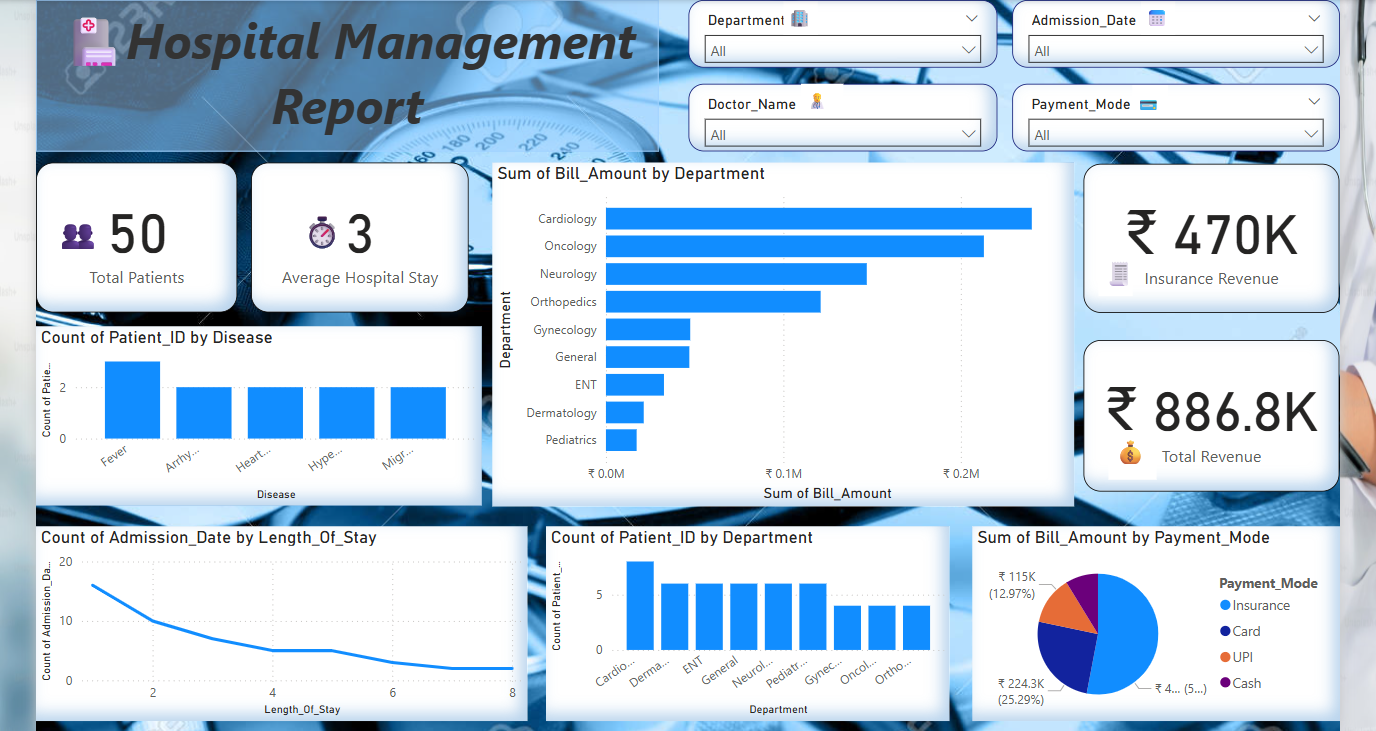

The dashboard page shown, as its layout file describes it:
{"tool":"powerbi","page":{"name":"Page 1","canvas":[1280,720],"ordinal":0},"visuals":[{"type":"textbox","box":[0,0,611.2,148.8],"z":0},{"type":"slicer","fields":{"Values":["Sheet1.Department"]},"box":[640.5,0,303.1,66.3],"z":1000},{"type":"slicer","fields":{"Values":["Sheet1.Payment_Mode"]},"box":[958.3,82.2,321.5,66.3],"z":2000},{"type":"slicer","fields":{"Values":["Sheet1.Admission_Date"]},"box":[958.3,0,321.5,66.3],"z":3000},{"type":"slicer","fields":{"Values":["Sheet1.Doctor_Name"]},"box":[640.5,82.2,303.1,66.3],"z":4000},{"type":"card","fields":{"Values":["Sheet1.TotalPatients"]},"box":[0,160,197.5,147.5],"z":5000},{"type":"card","fields":{"Values":["Sheet1.AvgStay"]},"box":[211.2,160,213.8,147.5],"z":6000},{"type":"card","fields":{"Values":["Sheet1.TotalRevenue"]},"box":[1028.8,333.8,251.2,148.8],"z":7000},{"type":"card","fields":{"Values":["Sheet1.InsuranceRevenue"]},"box":[1028.8,161.2,251.2,146.2],"z":8000},{"type":"columnChart","fields":{"Category":["Sheet1.Department"],"Y":["Sheet1.Patient_ID"]},"box":[500.6,516.6,396.3,191.4],"z":9000},{"type":"clusteredBarChart","fields":{"Category":["Sheet1.Department"],"Y":["Sheet1.Bill_Amount"]},"box":[447.5,160,571.2,337.5],"z":10000},{"type":"pieChart","fields":{"Category":["Sheet1.Payment_Mode"],"Y":["Sheet1.Bill_Amount"]},"box":[918.8,516.2,361.2,191.2],"z":11000},{"type":"lineChart","fields":{"Y":["Sheet1.Admission_Date"],"Category":["Sheet1.Length_Of_Stay"]},"box":[0,516.2,482.5,191.2],"z":12000},{"type":"clusteredColumnChart","fields":{"Category":["Sheet1.Disease"],"Y":["Sheet1.Patient_ID"]},"box":[0,320,437.5,176.2],"z":13000},{"type":"textbox","box":[15,200,55,56.2],"z":13001},{"type":"textbox","box":[253.8,200,52.5,60],"z":13002},{"type":"textbox","box":[1042.5,246.2,33.8,43.8],"z":13003},{"type":"textbox","box":[1052.5,422.5,47.5,48.8],"z":13004},{"type":"textbox","box":[733.8,1.2,33.8,32.5],"z":13005},{"type":"textbox","box":[1085,1.2,33.8,32.5],"z":13006},{"type":"textbox","box":[751.2,82.5,41.2,32.5],"z":13007},{"type":"textbox","box":[1076.2,83.8,35,31.2],"z":13008}]}

Visuals, with their boxes in screenshot pixels (x1, y1, x2, y2):
textbox: 29:0:663:140
slicer - Sheet1.Department: 694:0:1008:54
slicer - Sheet1.Payment_Mode: 1023:71:1357:140
slicer - Sheet1.Admission_Date: 1023:0:1357:54
slicer - Sheet1.Doctor_Name: 694:71:1008:140
card - Sheet1.TotalPatients: 29:152:234:305
card - Sheet1.AvgStay: 248:152:470:305
card - Sheet1.TotalRevenue: 1097:332:1357:487
card - Sheet1.InsuranceRevenue: 1097:153:1357:305
columnChart - Sheet1.Department x Sheet1.Patient_ID: 548:522:960:721
clusteredBarChart - Sheet1.Department x Sheet1.Bill_Amount: 493:152:1086:502
pieChart - Sheet1.Payment_Mode x Sheet1.Bill_Amount: 982:522:1357:720
lineChart - Sheet1.Admission_Date x Sheet1.Length_Of_Stay: 29:522:530:720
clusteredColumnChart - Sheet1.Disease x Sheet1.Patient_ID: 29:318:483:501
textbox: 44:193:101:252
textbox: 292:193:347:256
textbox: 1111:241:1146:287
textbox: 1121:424:1171:475
textbox: 790:0:825:21
textbox: 1155:0:1190:21
textbox: 808:71:851:105
textbox: 1146:73:1182:105
